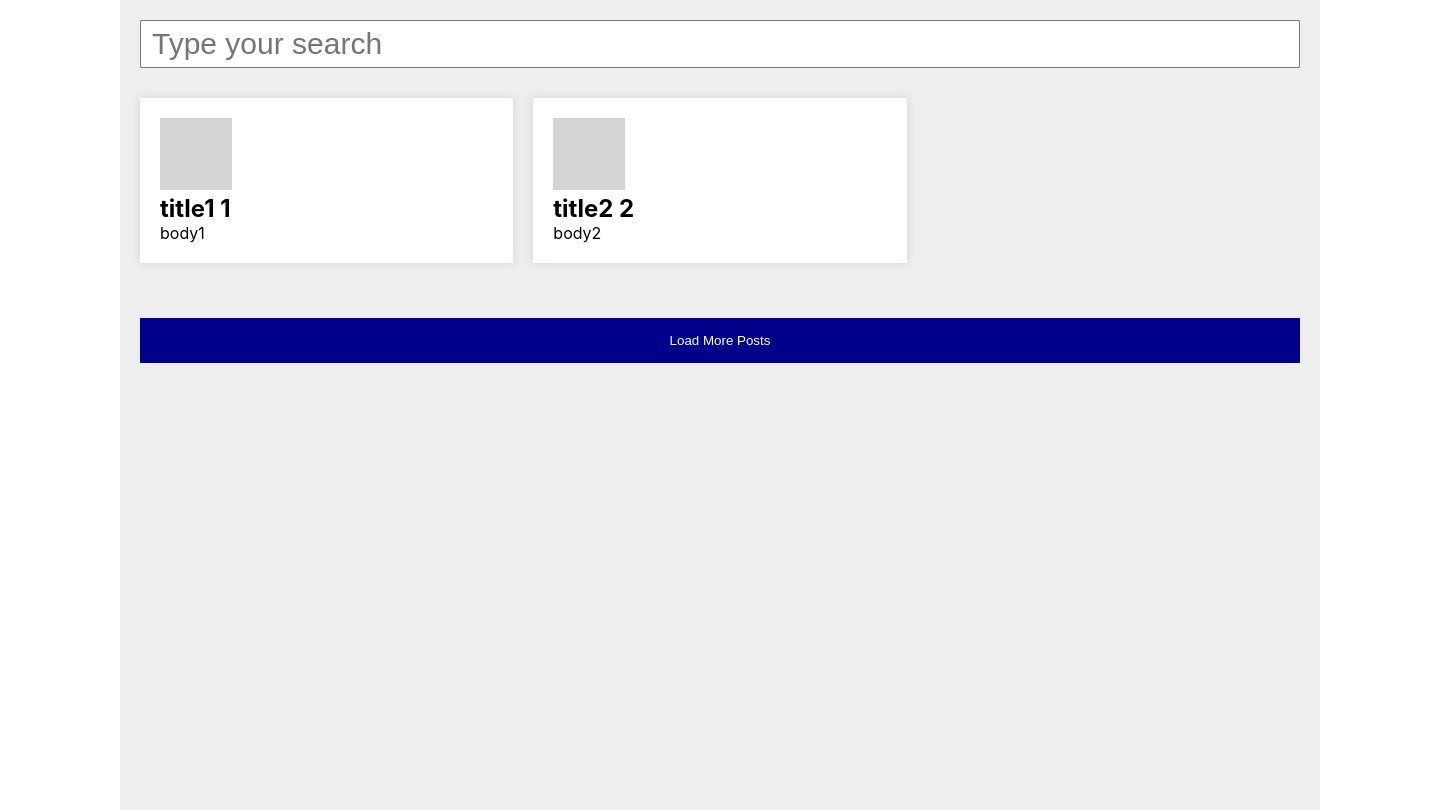
Test: <Home /> › should load more posts
Click the button "Load More Posts". click: {"x": 720, "y": 340}
box: [140,318,1300,363]
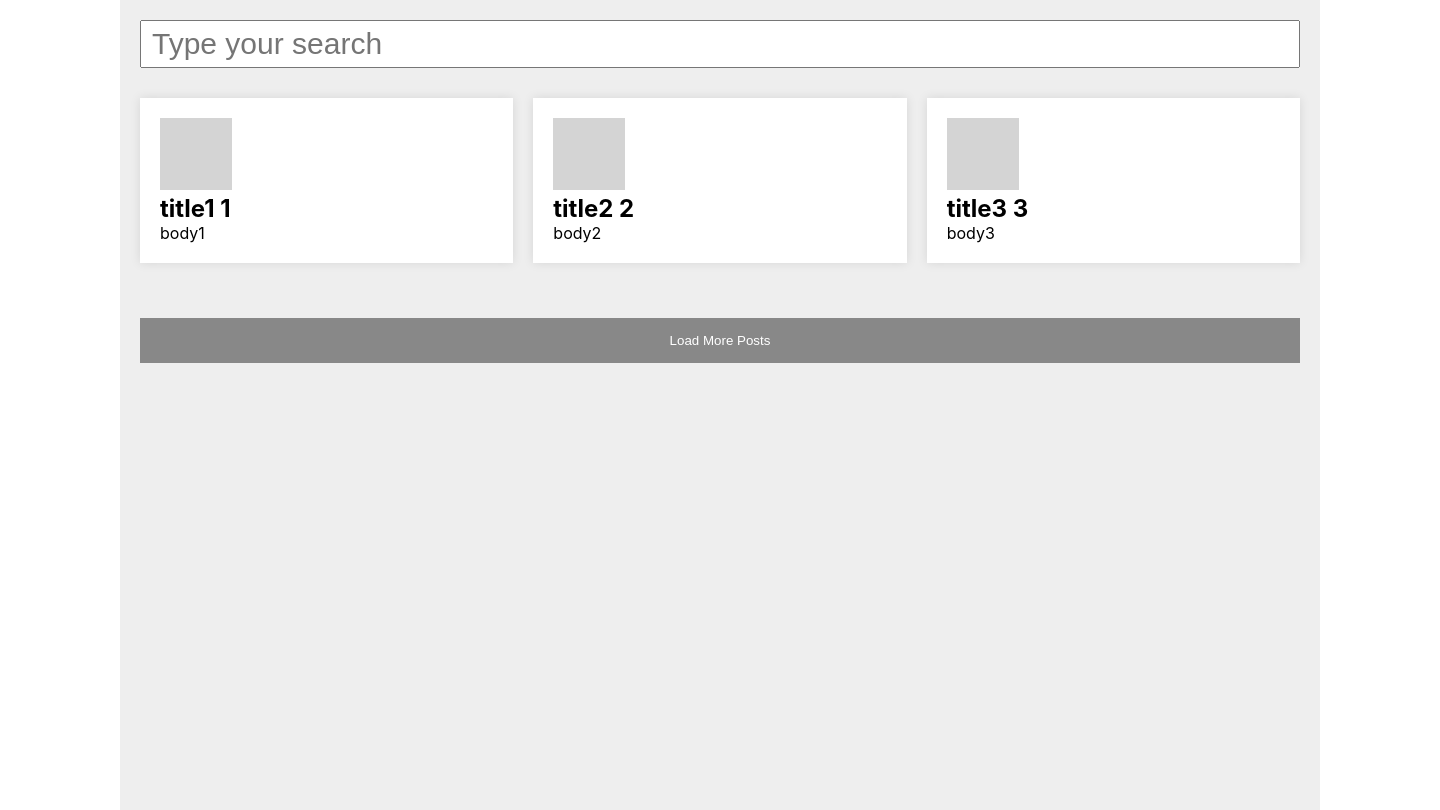
Check: the heading "title3 3" is shown, box [947,194,1028,223]
Check: the button "Load More Posts" is disabled, box [140,318,1300,363]
